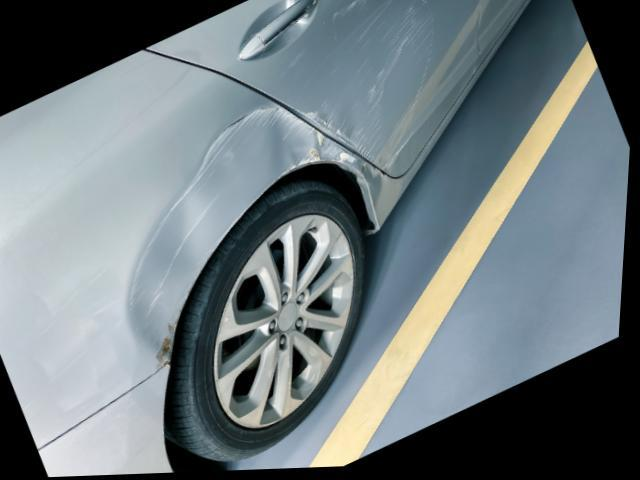dent: (131, 109, 367, 364)
rub: (297, 0, 438, 178)
